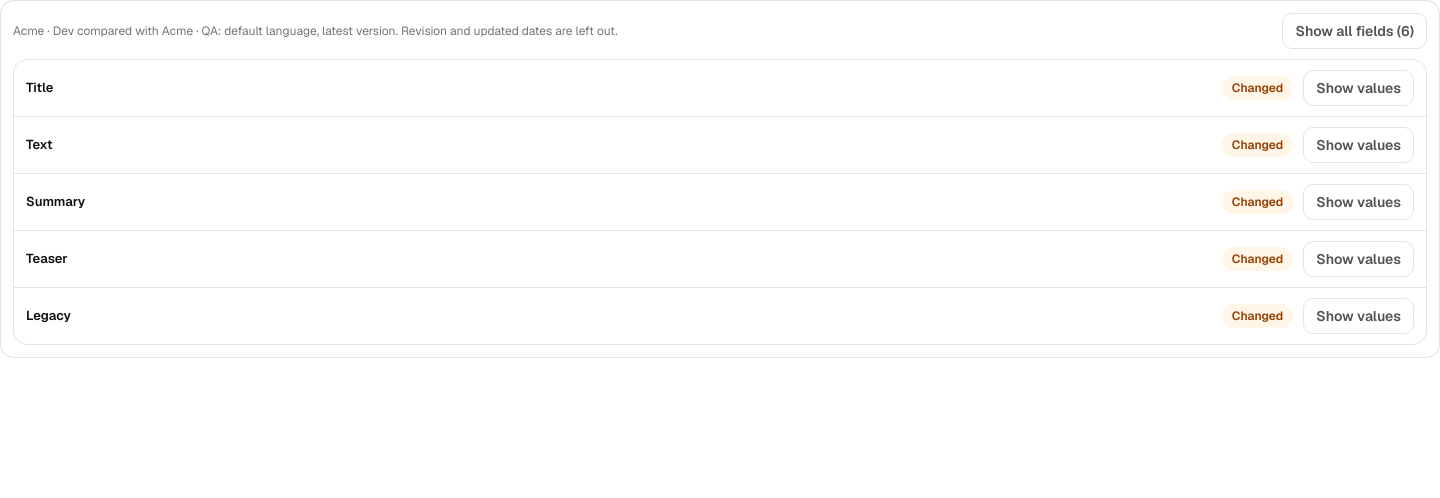
Test: FieldDiff › Show all fields adds the unchanged ones after the changed, each with its one value
The width and height of the screenshot is (1440, 498).
Click the button "Show all fields (6)" at (1355, 31), box 1282,13 -> 1427,49
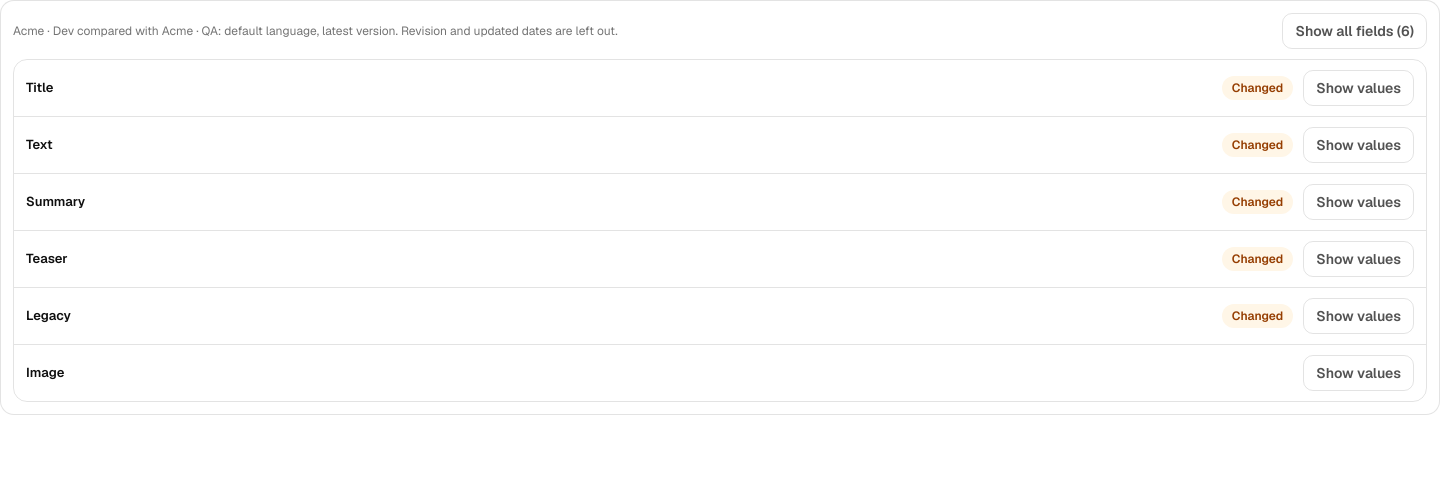
Click the button "Show values" in the row of "Image" at (1359, 373), box 1303,355 -> 1414,391
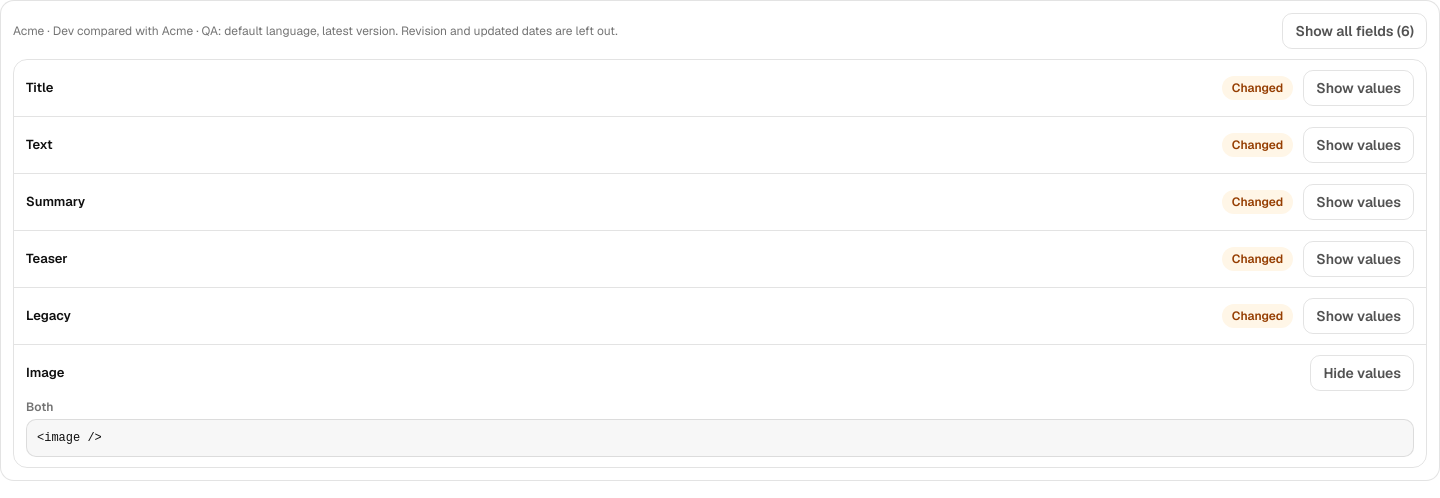
Click the button "Show all fields (6)" at (1355, 31), box 1282,13 -> 1427,49
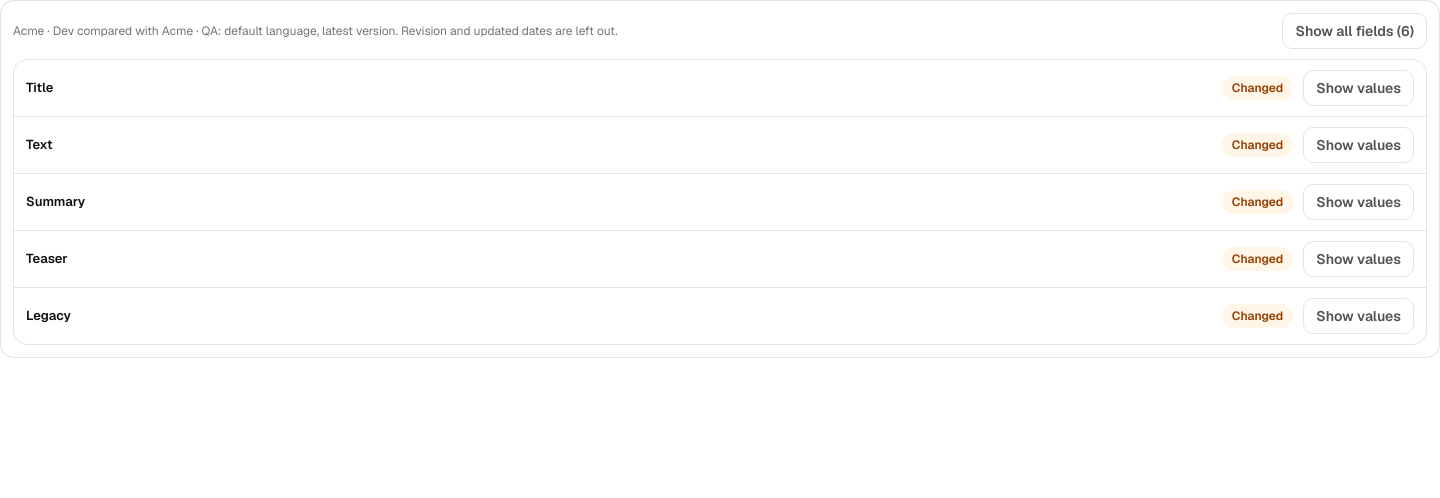
Check: the text "Image" is gone
